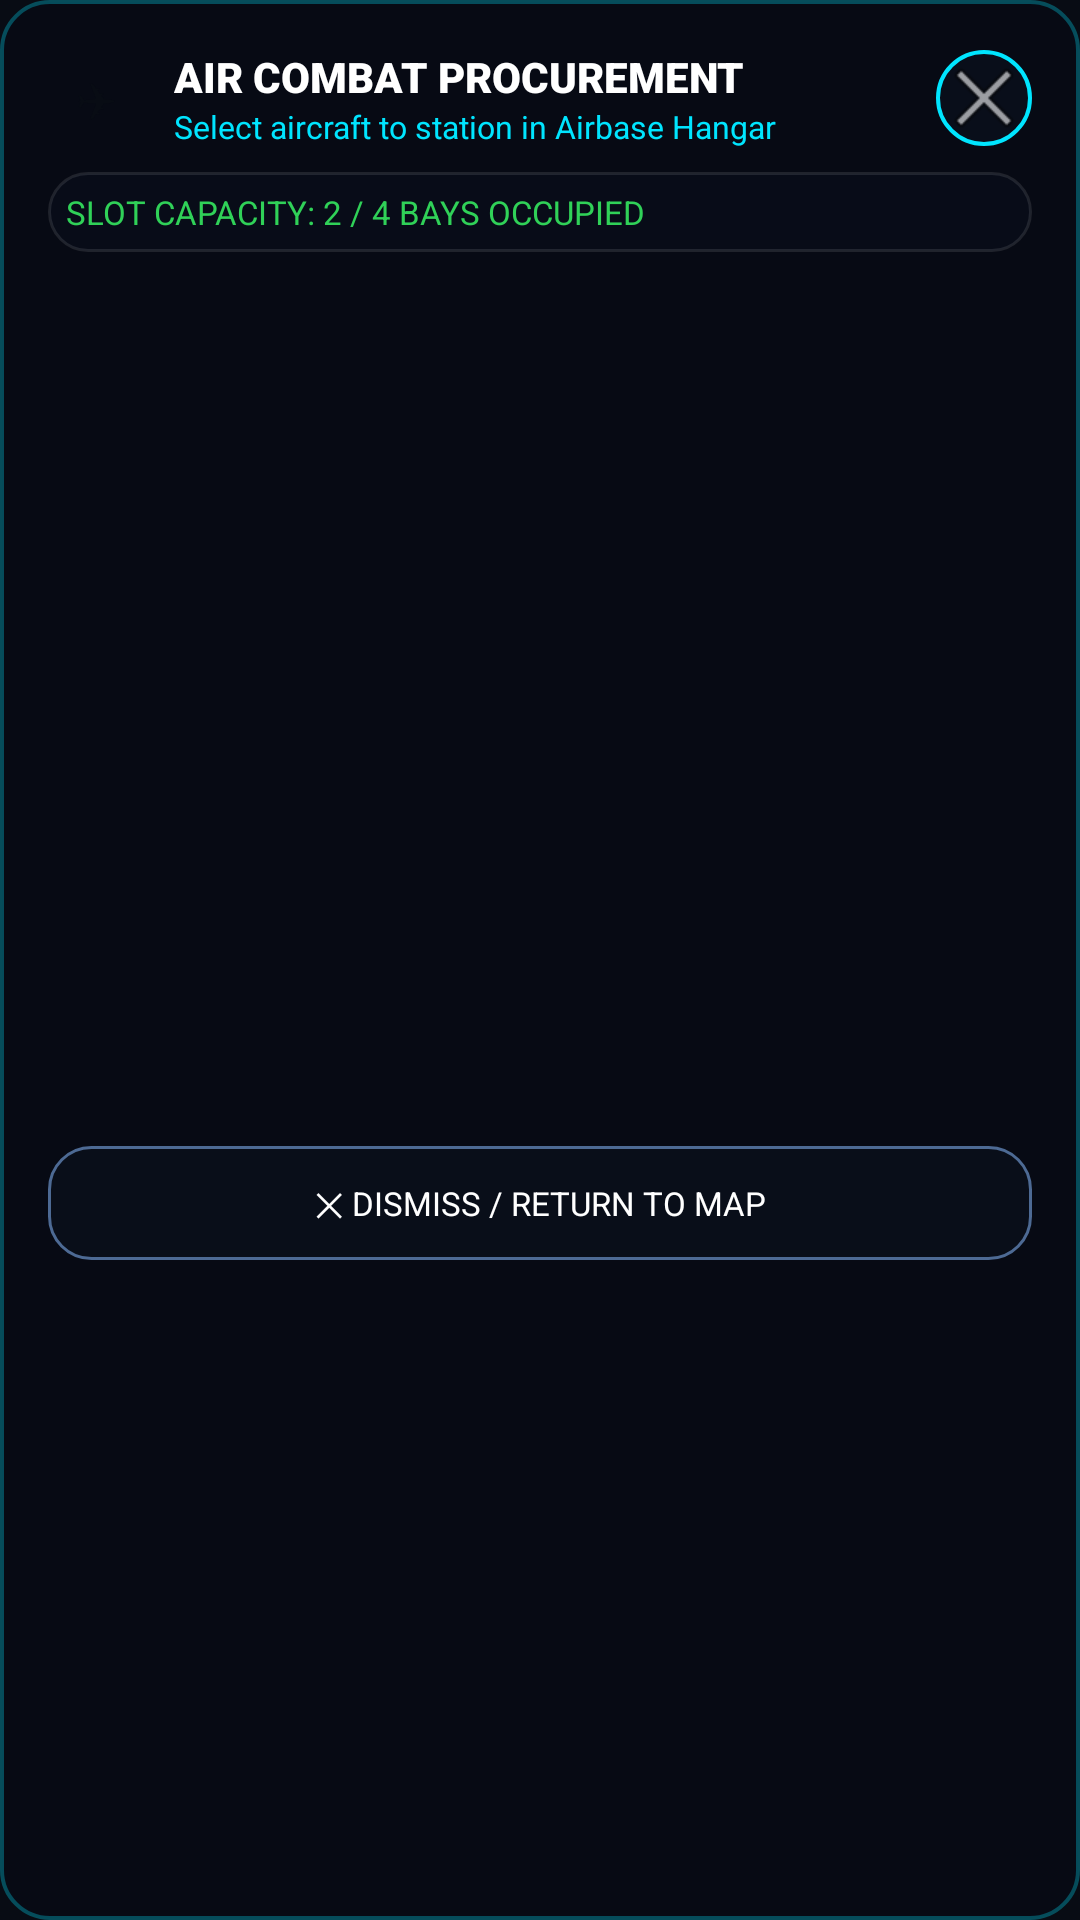

Where icons sit on this 1080*1920 app screen, as (x1=x1, y1=y1, x2=x2, y2=y2):
close clear cancel: (x1=936, y1=50, x2=1032, y2=146)
